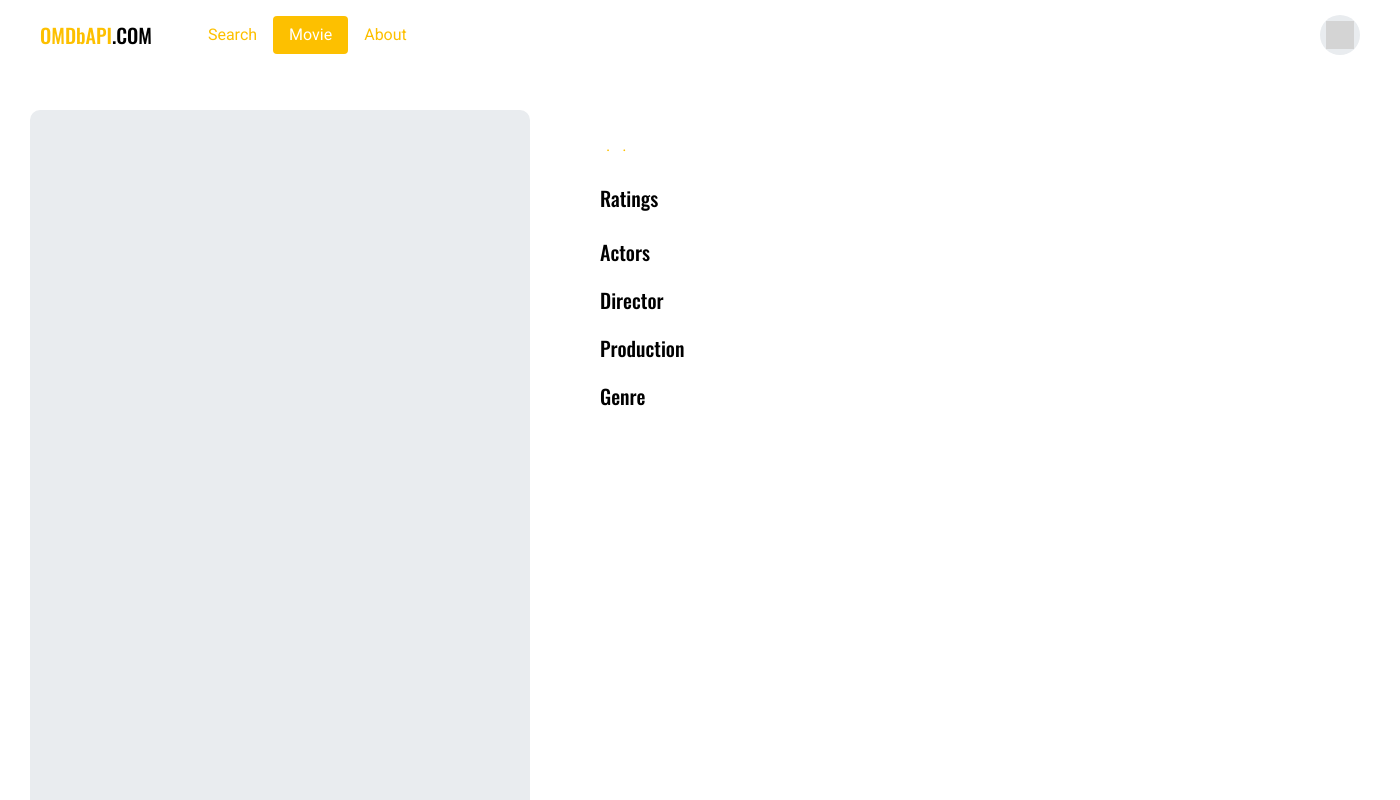
it: About 페이지로 이동 › About 아이콘을 클릭합니다.
Click the element with class "user" at (1340, 35), box [1320,15,1360,55]
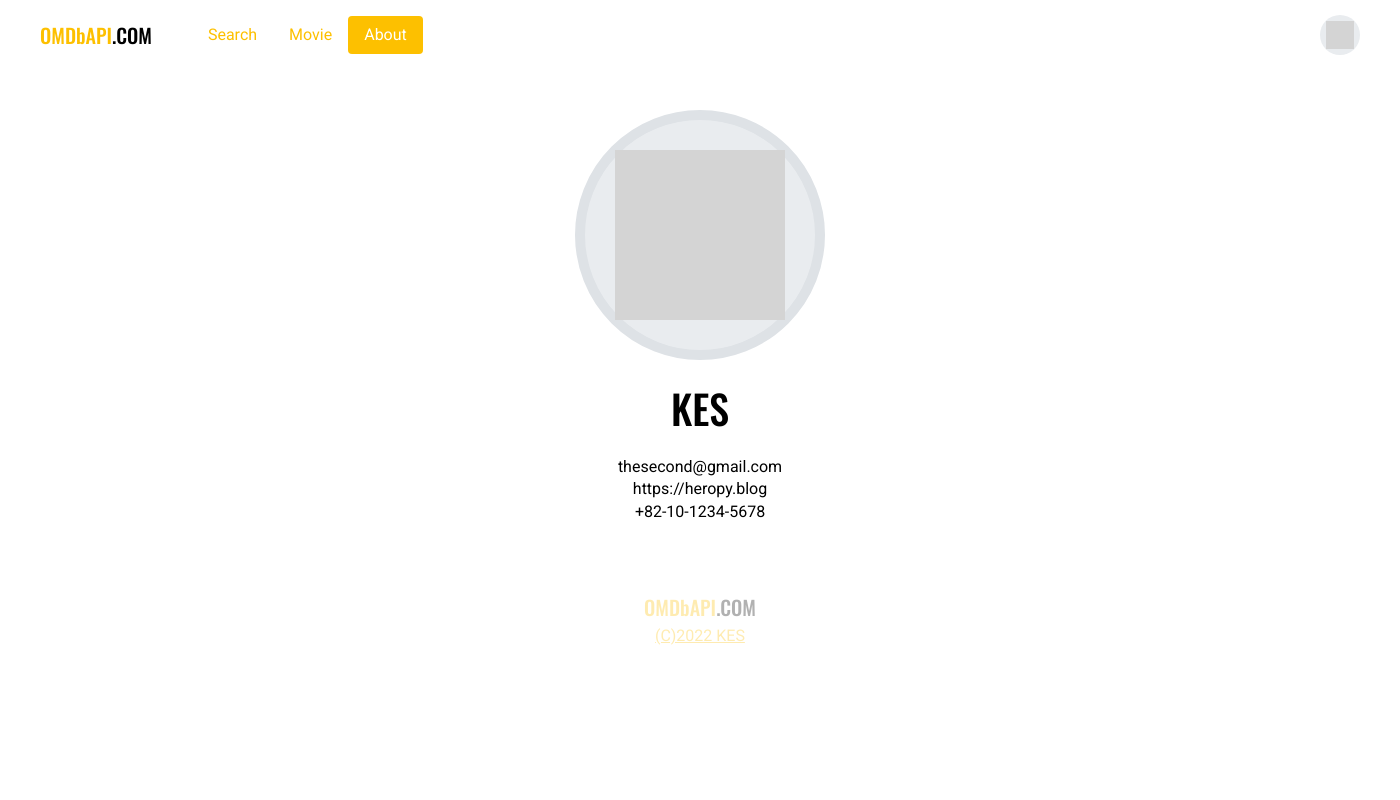
Expected: the link "About" is shown, [348,16,423,54]
Now the text "KES" is shown, box [671,378,729,438]
